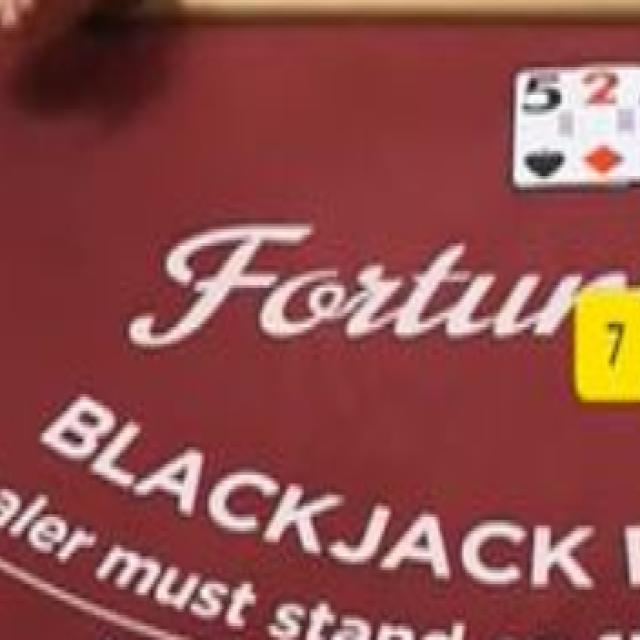Card-2: (576, 65, 640, 180)
Card-5: (514, 63, 575, 188)
